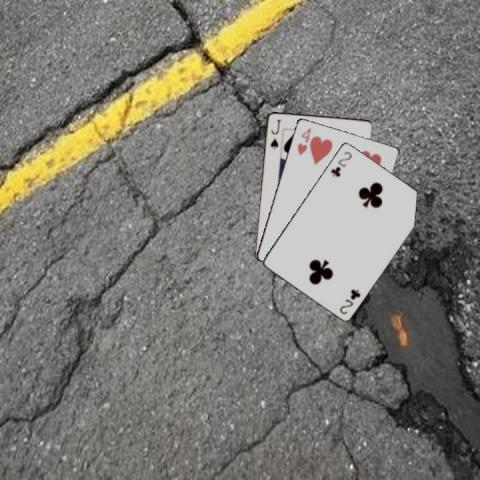2c: (328, 148, 354, 178), (337, 286, 362, 315)
4h: (294, 125, 313, 156)
Js: (267, 117, 282, 150)
